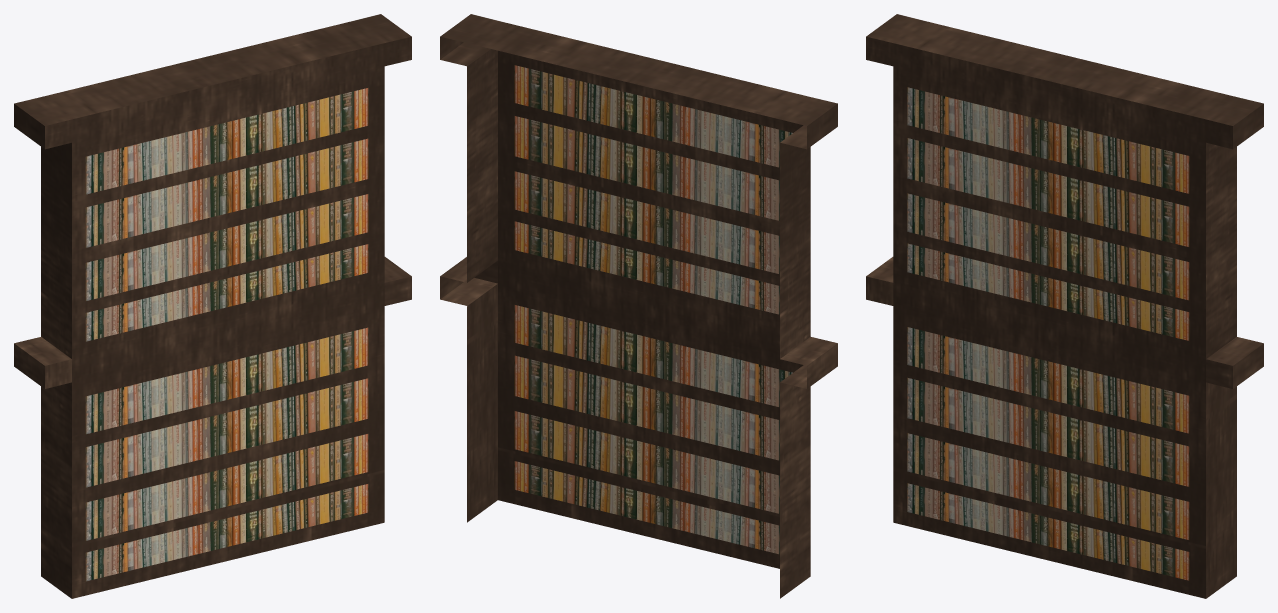
Rendered from bookshelf.fbx.
3 renders of one model, left to right at view 1: azimuth 30°, elevation 25°; view 2: azimuth 150°, elevation 25°; view 3: azimuth 330°, elevation 25°, orthographic.
Visible parts, largest first — view 1: bookshelf7; view 2: bookshelf7; view 3: bookshelf7.
Boxes of the visible parts, bbox=[...] form: bookshelf7: bbox=[14, 14, 411, 598]; bookshelf7: bbox=[440, 14, 837, 598]; bookshelf7: bbox=[866, 14, 1263, 598].
Bounding box in the file's own units: 473 × 590 × 69.06.
